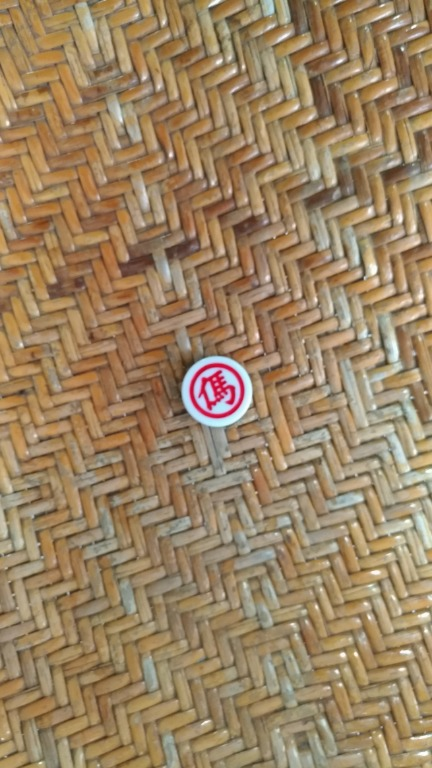r-knight: (172, 350, 263, 431)
